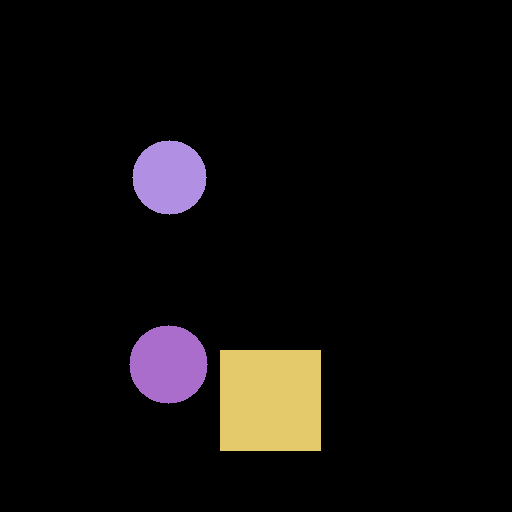circle: (129, 325, 207, 403), (132, 140, 206, 214)
square: (220, 350, 320, 450)
